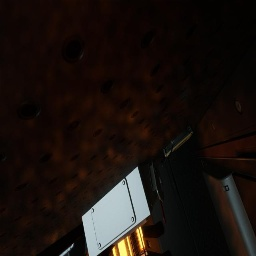EmergencyPhone ,: (160, 125, 194, 165)
SafetySwitchPanel ,: (82, 161, 166, 256)
